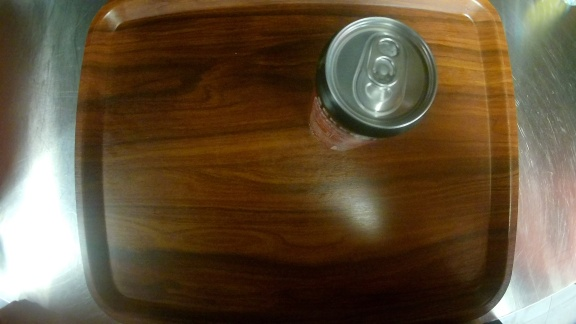kutukola: (298, 13, 441, 159)
